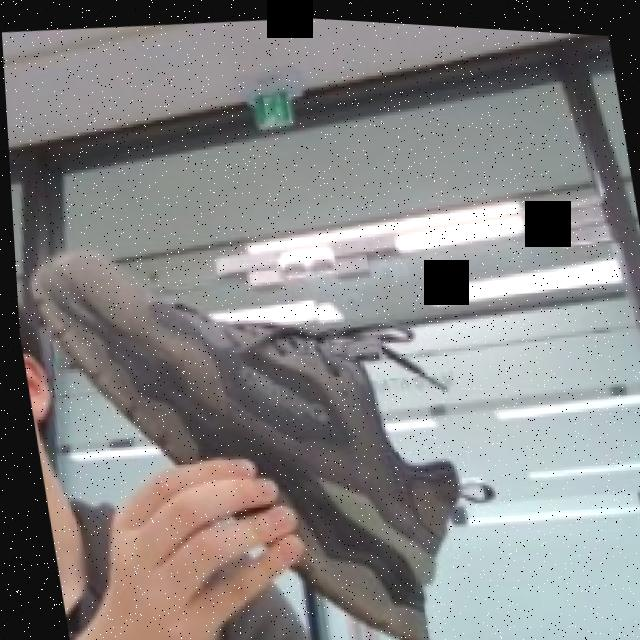shoes: (8, 174, 545, 640)
